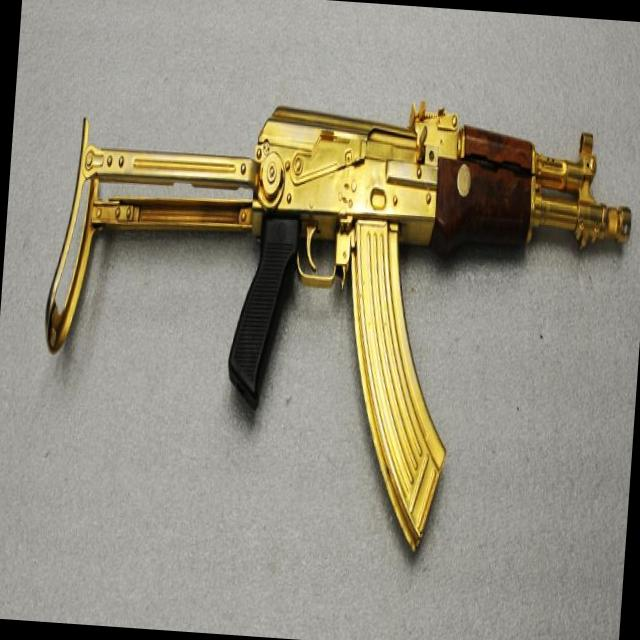Gun: (46, 105, 630, 549)
